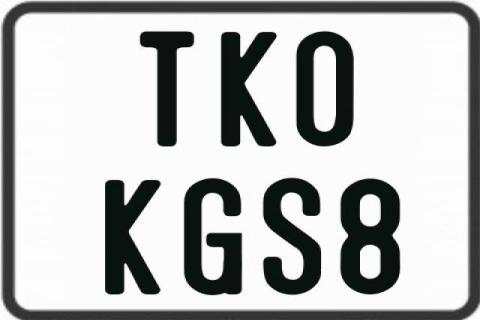0: (293, 31, 357, 151), (339, 176, 399, 295)
G: (184, 177, 243, 295)
K: (219, 31, 277, 147), (102, 178, 158, 292)
S: (260, 175, 320, 297)
T: (139, 30, 195, 150)
